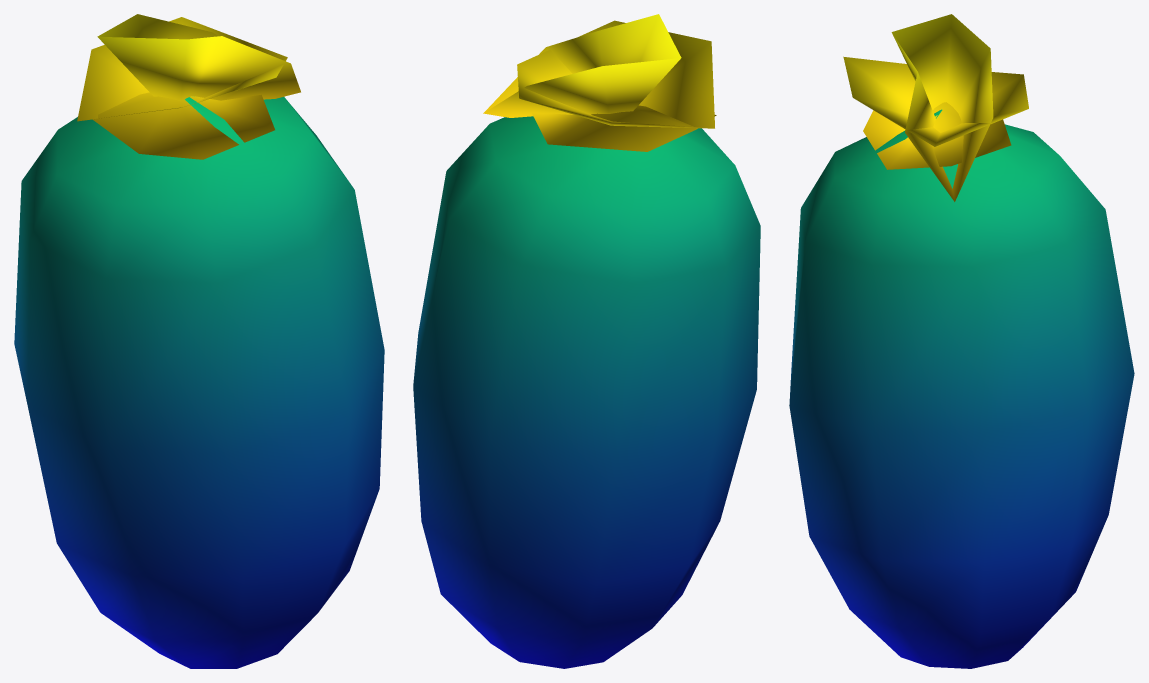
The model's file is Grocactus2.fbx.
3 renders of one model, left to right at view 1: azimuth 30°, elevation 25°; view 2: azimuth 150°, elevation 25°; view 3: azimuth 270°, elevation 25°, orthographic. The views are drawn at different scales.
Parts seen in each view (by area): view 1: Grocactus2_LOD0; view 2: Grocactus2_LOD0; view 3: Grocactus2_LOD0.
Part boxes in pixels (box(x1,y1,x2,y2)): Grocactus2_LOD0: box(14, 14, 384, 668); Grocactus2_LOD0: box(413, 14, 760, 668); Grocactus2_LOD0: box(789, 14, 1134, 668).
Size of what is drawn, in the model's own units: 90.58 by 180 by 95.24.
